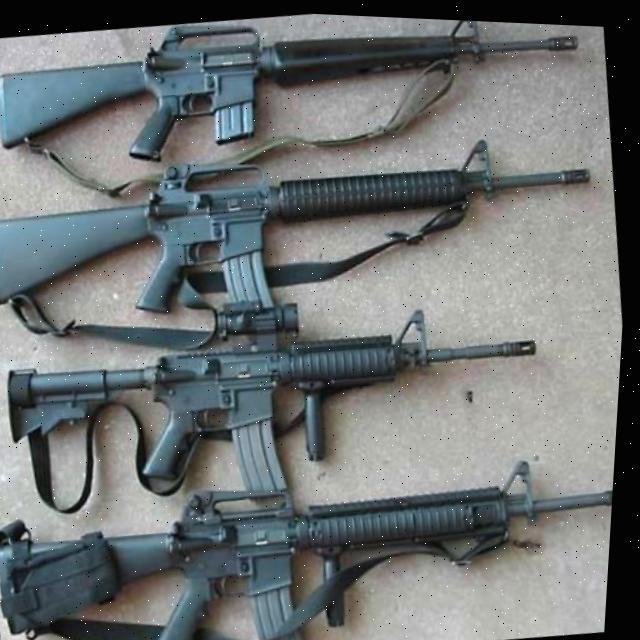firearm: (0, 260, 557, 530), (0, 102, 606, 346), (0, 421, 620, 640), (0, 0, 589, 190)
